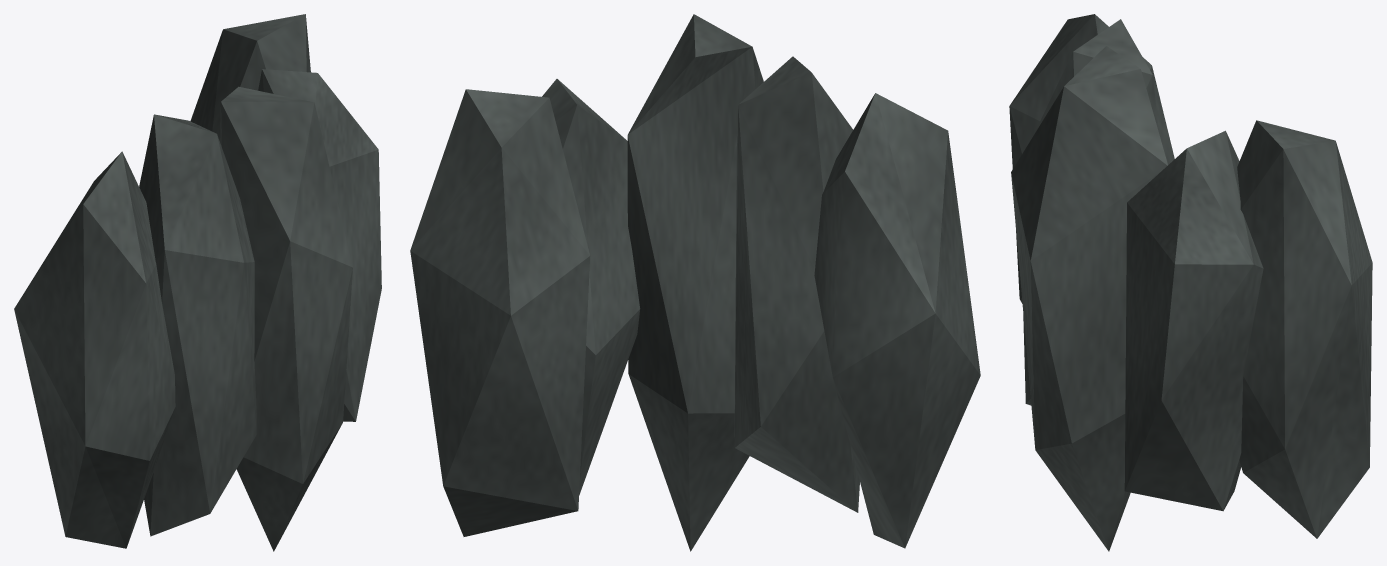
File: rocks.cliff_corner.lod2.glb
3 views of the same model, side by side, from view 1: azimuth 30°, elevation 25°; view 2: azimuth 150°, elevation 25°; view 3: azimuth 270°, elevation 25° (orthographic). The views are drawn at different scales.
Visible parts, largest first — view 1: Cliff, Cliff.002, Cliff.001, Cliff.003, Cliff.004; view 2: Cliff.004, Cliff, Cliff.002, Cliff.001, Cliff.003; view 3: Cliff.002, Cliff.004, Cliff.003, Cliff, Cliff.001.
Part boxes in pixels (box(x1,y1,x2,y2)): Cliff: box(14, 151, 175, 548); Cliff.002: box(220, 86, 352, 551); Cliff.001: box(139, 114, 256, 536); Cliff.003: box(258, 69, 381, 421); Cliff.004: box(190, 14, 310, 141); Cliff.004: box(410, 89, 590, 536); Cliff: box(814, 93, 980, 548); Cliff.002: box(627, 14, 763, 551); Cliff.001: box(734, 56, 859, 512); Cliff.003: box(542, 79, 640, 495); Cliff.002: box(1011, 46, 1167, 551); Cliff.004: box(1237, 120, 1372, 538); Cliff.003: box(1124, 130, 1263, 511); Cliff: box(1009, 14, 1174, 303); Cliff.001: box(1023, 19, 1158, 405).
Size of the model in its own units: 10.45 by 12.17 by 8.37.
1 material, 1 textured.
